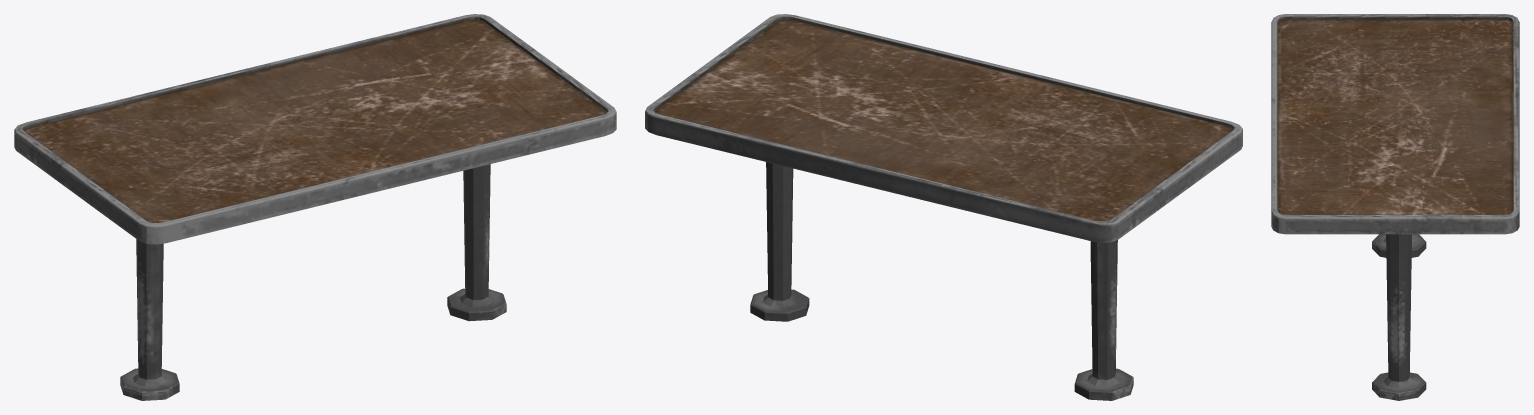
The model's file is SM_Table.fbx.
3 views of the same model, side by side, from view 1: azimuth 30°, elevation 25°; view 2: azimuth 150°, elevation 25°; view 3: azimuth 270°, elevation 25° (orthographic). The views are drawn at different scales.
Parts seen in each view (by area): view 1: SM_Table; view 2: SM_Table; view 3: SM_Table.
Part boxes in pixels (left/top/right/bottom): SM_Table: left=14, top=14, right=616, bottom=400; SM_Table: left=645, top=14, right=1242, bottom=400; SM_Table: left=1271, top=14, right=1519, bottom=400.
Bounding box in the file's own units: 1.19 × 0.6106 × 0.5516.
